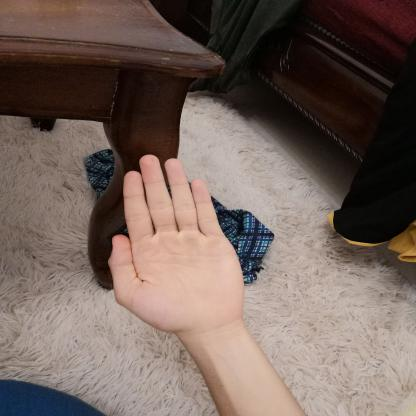SEEN: (98, 146, 252, 341)
